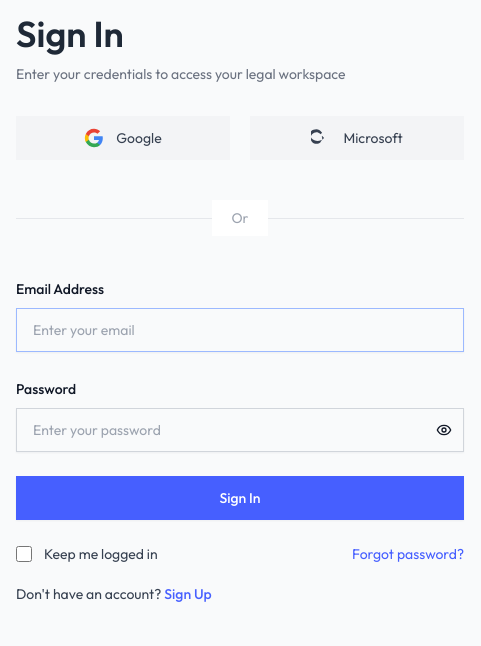
Test: LoginPage › Form Validation › should validate password field is required
This screenshot has width=481, height=646.
In the field labelled "Email Address": (240, 330) [16,308,464,352], type "test@example.com"
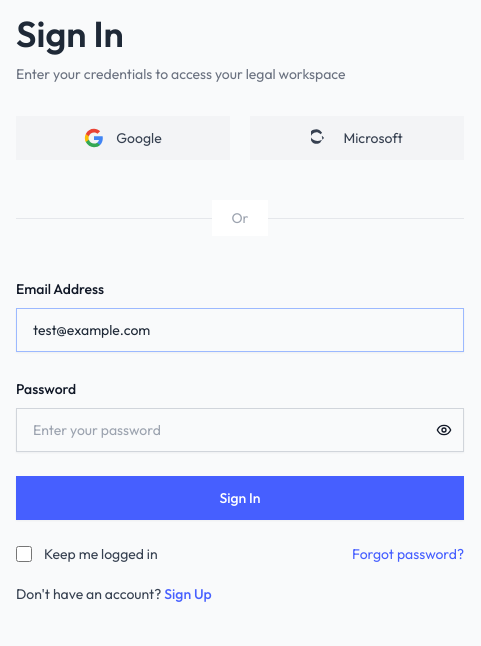
Click the button "Sign In": (240, 498) [16,476,464,520]
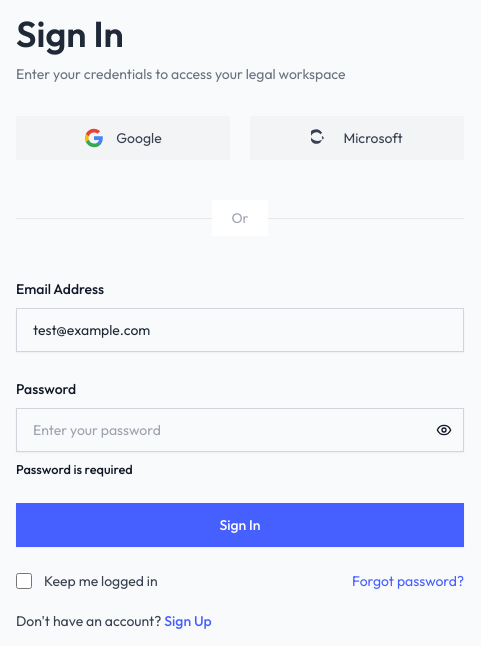
expect the text "Password is required" is shown: met, box [16,461,133,477]
